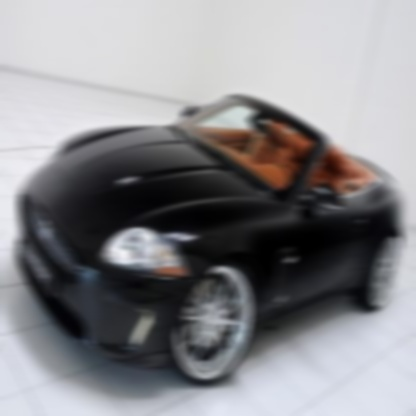Vehicle: (17, 92, 405, 387)
